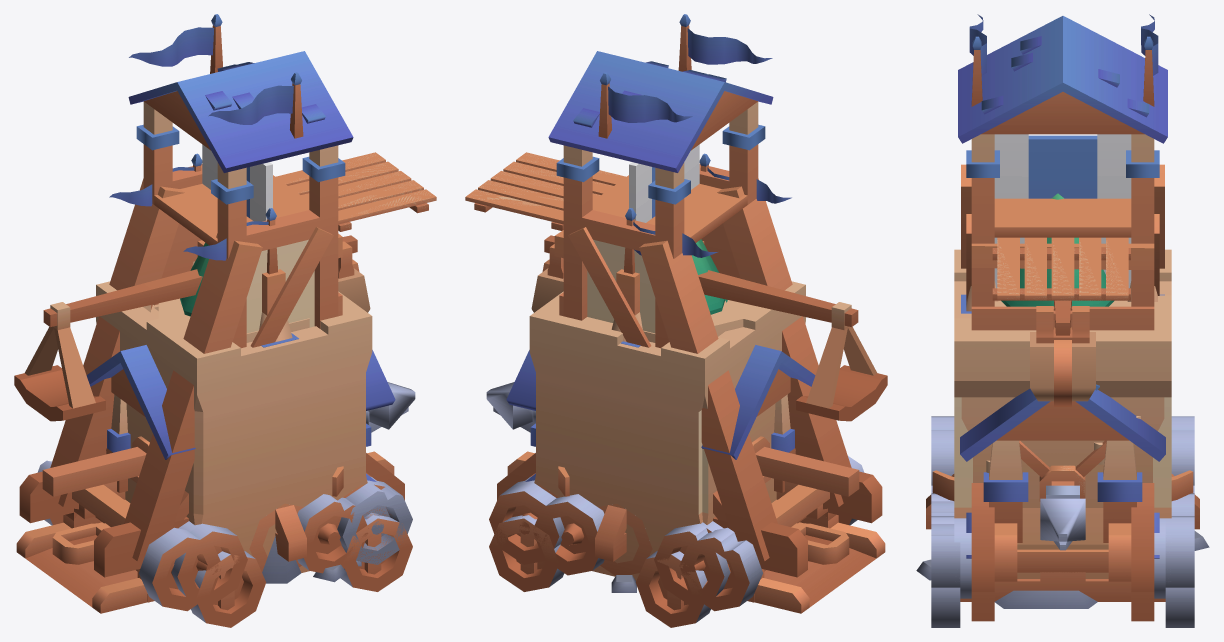
The model's file is castle.glb.
3 views of the same model, side by side, from view 1: azimuth 30°, elevation 25°; view 2: azimuth 150°, elevation 25°; view 3: azimuth 270°, elevation 25° (orthographic). The views are drawn at different scales.
Parts seen in each view (by area): view 1: siege-tower, wall, wheel (×7), wall-doorway, catapult (×3), siege-ram, siege-trebuchet, tower-square, bridge-draw, wall-corner, ram, arm (+4 smaller); view 2: siege-tower, wall, wheel (×7), catapult (×3), wall-doorway, wall-corner, siege-ram, siege-trebuchet, bridge-draw, ram, arm, tower-square (+4 smaller); view 3: siege-tower, siege-ram, wall, wheel (×10), flag-banner-long, wall-corner, weight (×2), siege-trebuchet, bridge-straight, siege-catapult, tower-square, ram (+5 smaller).
Part boxes in pixels (x1,y1,x2,y2): siege-tower: (19, 14, 436, 577); wall: (96, 283, 372, 572); wheel (×7): (139, 483, 412, 627); wall-doorway: (106, 281, 284, 556); catapult (×3): (14, 302, 110, 564); siege-ram: (74, 345, 395, 519); siege-trebuchet: (65, 153, 404, 561); tower-square: (96, 282, 371, 394); bridge-draw: (16, 522, 147, 613); wall-corner: (96, 281, 372, 525); ram: (42, 382, 415, 496); arm: (43, 235, 357, 327); siege-tower: (465, 14, 882, 577); wall: (529, 293, 805, 576); wheel (×7): (489, 482, 762, 627); catapult (×3): (791, 302, 887, 564); wall-doorway: (617, 327, 749, 580); wall-corner: (529, 291, 805, 524); siege-ram: (506, 345, 827, 519); siege-trebuchet: (497, 153, 836, 561); bridge-draw: (754, 522, 885, 613); ram: (486, 382, 859, 496); arm: (544, 235, 858, 327); tower-square: (529, 281, 805, 394); siege-tower: (958, 14, 1167, 330); siege-ram: (960, 384, 1165, 581); wall: (954, 249, 1171, 578); wheel (×10): (931, 430, 1194, 627); flag-banner-long: (994, 134, 1131, 288); wall-corner: (954, 251, 1171, 544); weight (×2): (1030, 306, 1095, 406); siege-trebuchet: (926, 281, 1199, 591); bridge-straight: (961, 397, 1164, 507); siege-catapult: (960, 512, 1165, 621); tower-square: (954, 249, 1171, 532); ram: (1040, 481, 1085, 541).
Bounding box in the file's own units: 2.14 × 2.83 × 1.35.
1 material, 1 textured.
